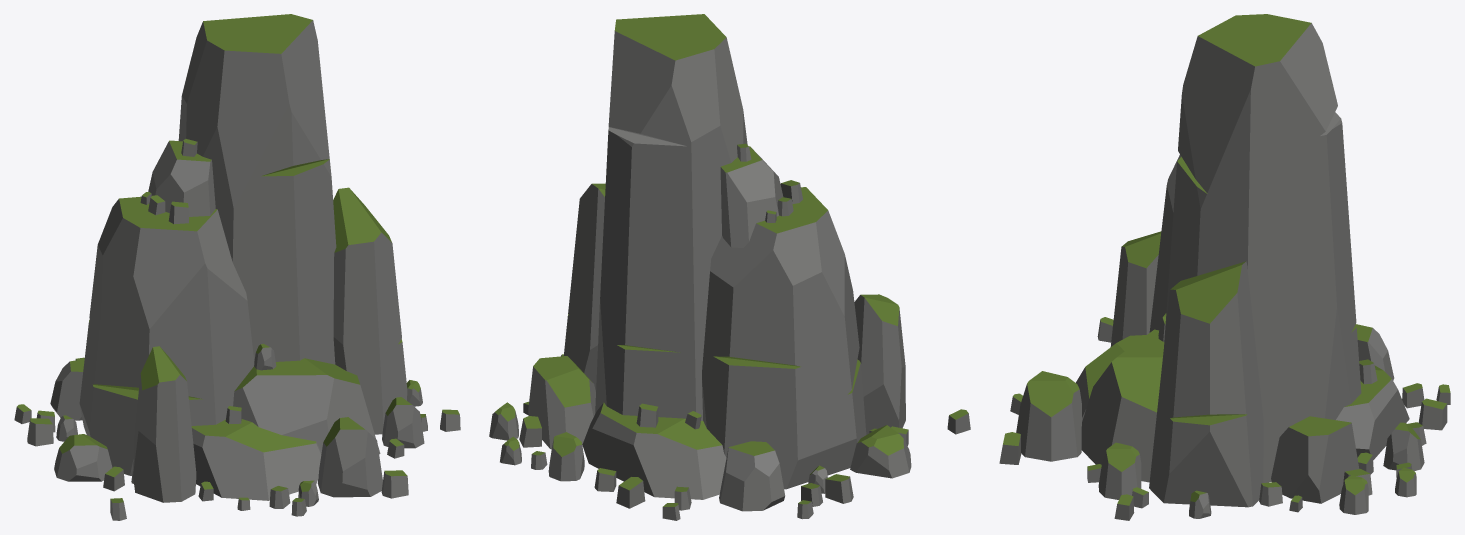
Rendered from RockStack_6.fbx.
3 views of the same model, side by side, from view 1: azimuth 30°, elevation 25°; view 2: azimuth 150°, elevation 25°; view 3: azimuth 270°, elevation 25° (orthographic). The views are drawn at different scales.
Parts seen in each view (by area): view 1: RockStack_6; view 2: RockStack_6; view 3: RockStack_6.
Part boxes in pixels (x1,y1,x2,y2): RockStack_6: (14,14,460,520); RockStack_6: (489,14,970,520); RockStack_6: (999,14,1450,520).
Bounding box in the file's own units: 425 × 435 × 433.
